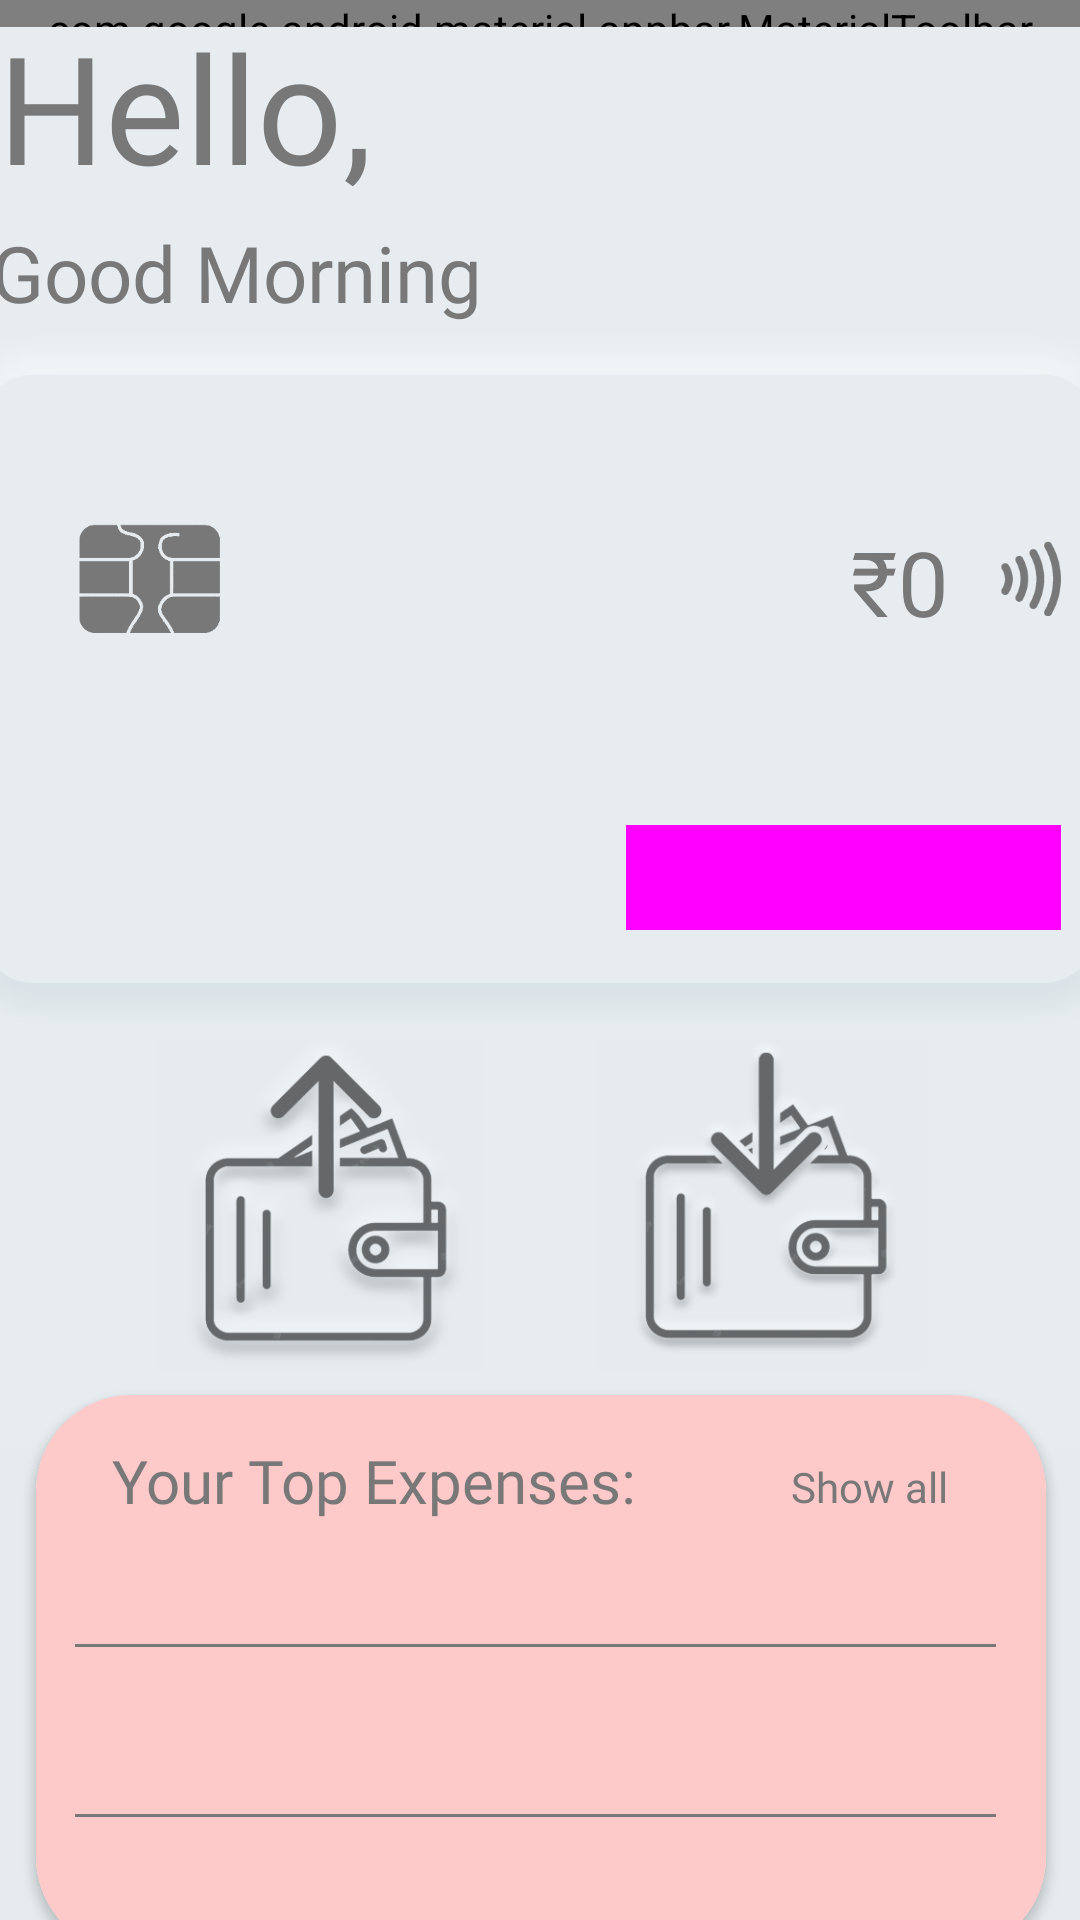

Icon bounding boxes for this 1080px x 1920px phone screenshot, format (x1, y1, x2, y2):
add: (645, 1052, 888, 1346)
subtract: (205, 1055, 447, 1352)
